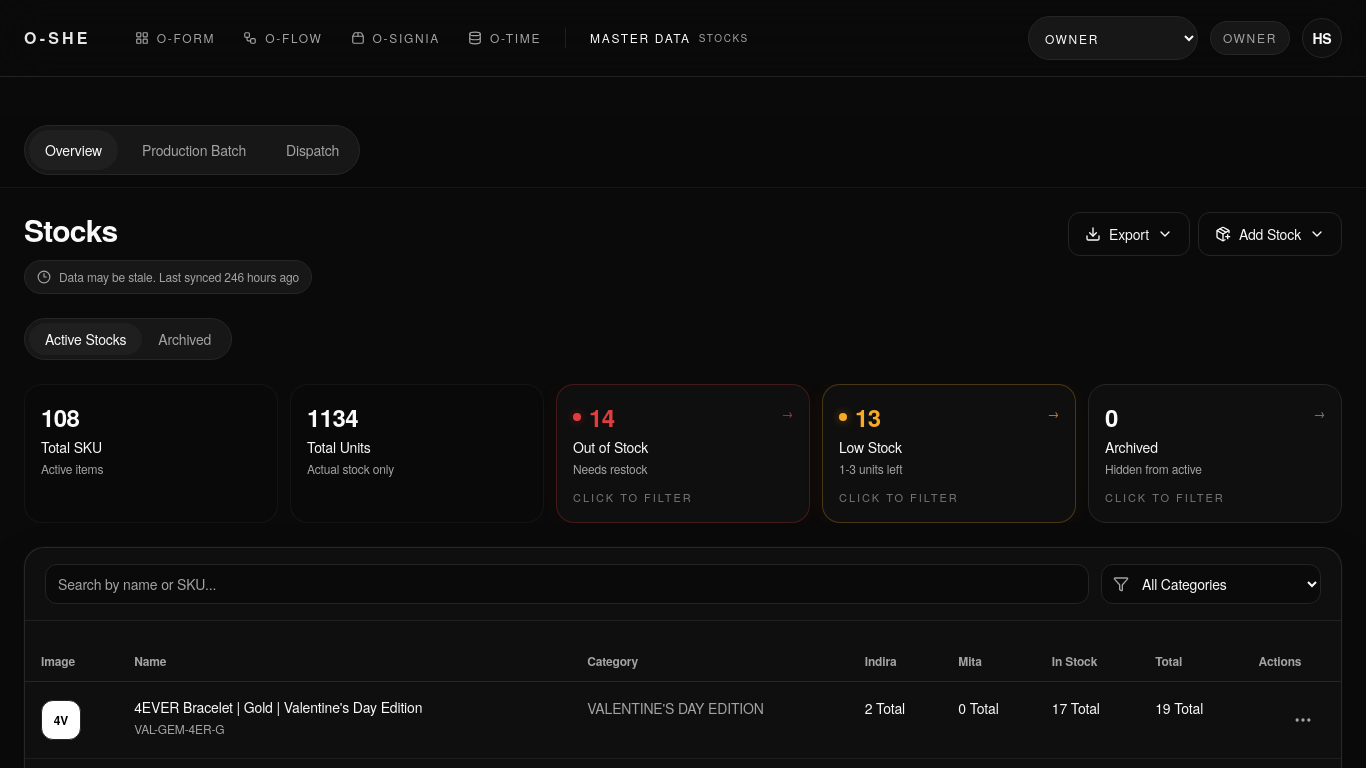
Test: OverviewPage › filters the table when a summary card is clicked
Expected: the text "4EVER Bracelet | Gold | Valentine's Day Edition" is shown, [134,698,422,717]
Click the button "14 Out of Stock Needs restock → Click to filter" at coordinates (683, 453), box [556,384,810,522]
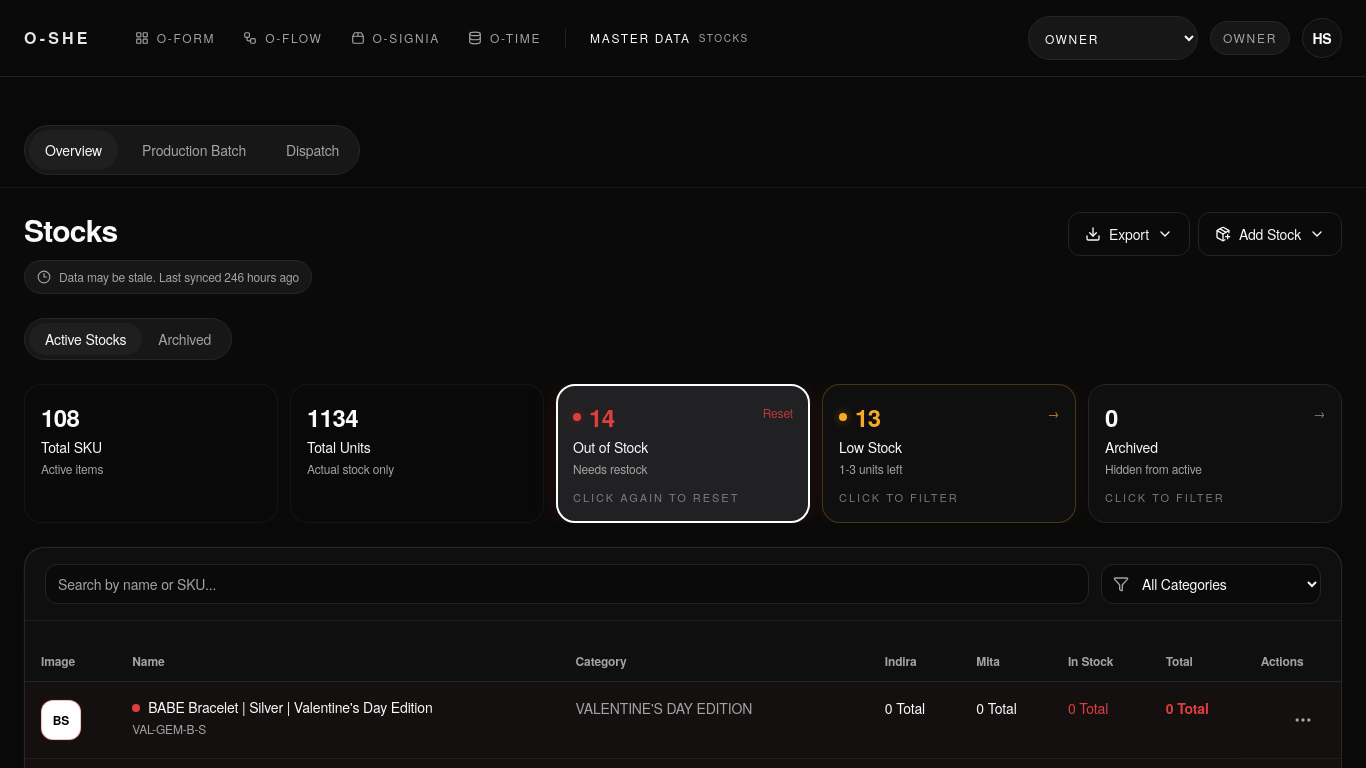
Expected: the text "BABE Bracelet | Silver | Valentine's Day Edition" is shown, [148,698,432,717]
Now the text "4EVER Bracelet | Gold | Valentine's Day Edition" is gone
